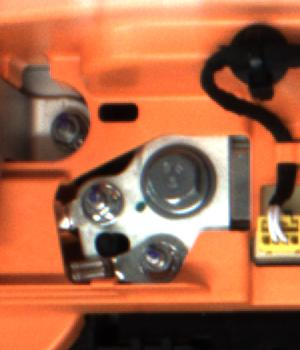nut_b: (142, 130, 230, 230)
screw_s: (133, 240, 178, 281), (81, 182, 118, 225), (48, 113, 85, 149)
